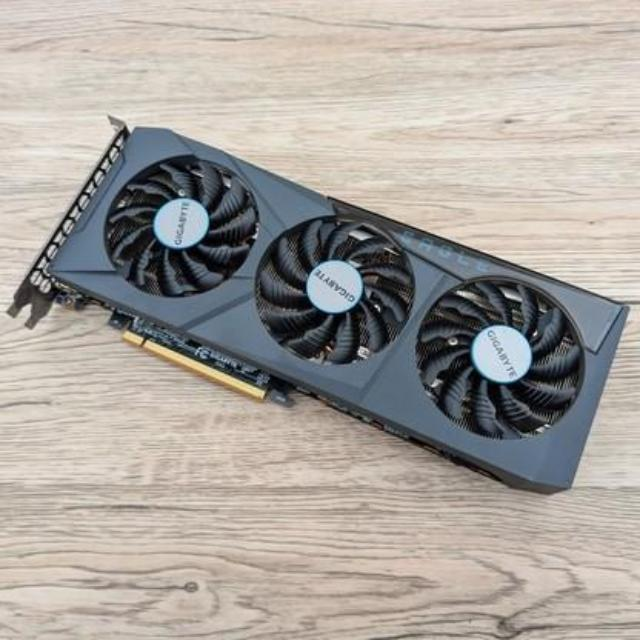GPU: (8, 125, 634, 500)
